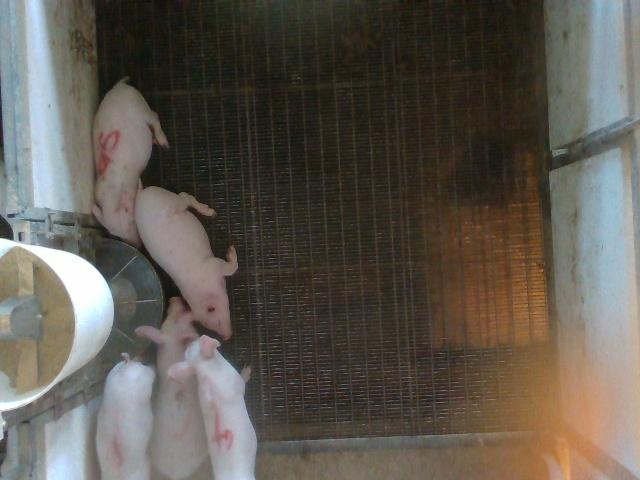pig-1: (96, 352, 155, 478)
pig-3: (136, 298, 209, 478)
pig-4: (168, 335, 258, 478)
pig-5: (91, 78, 169, 247)
